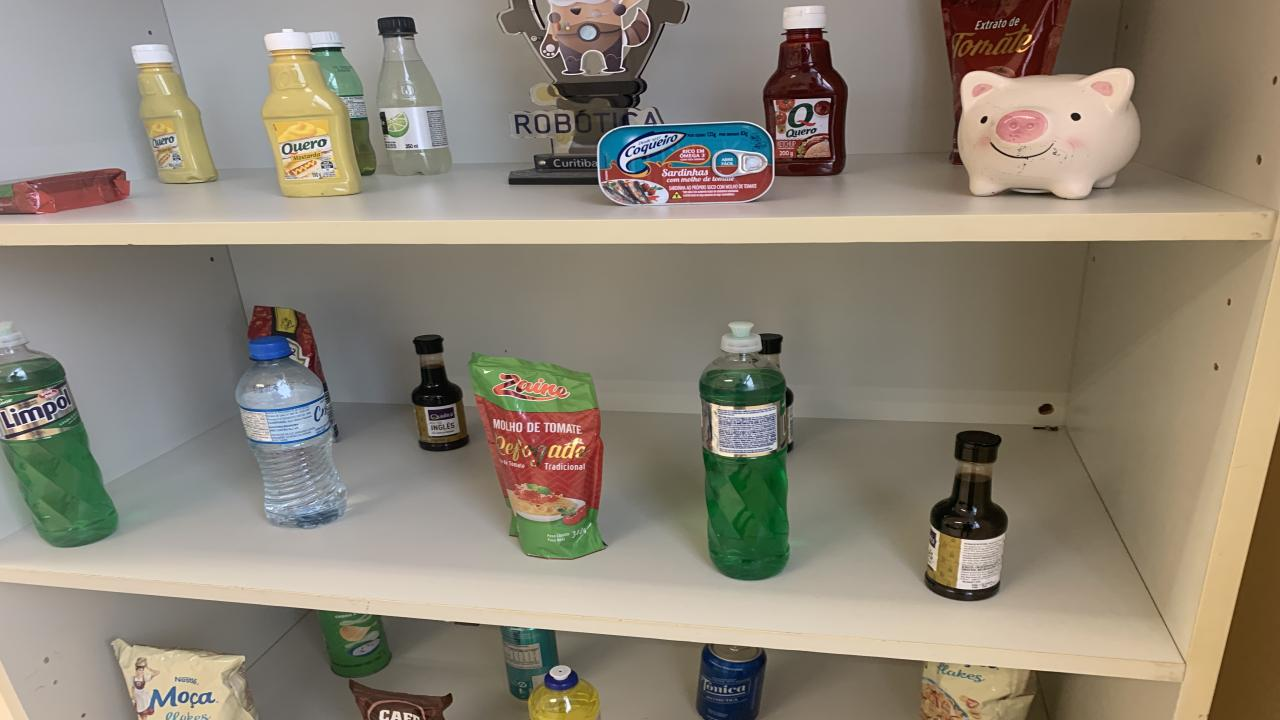Coffee-Pantry_Items: (350, 681, 452, 720)
Detergent-Cleanup_Items: (0, 322, 118, 548), (700, 322, 790, 579), (528, 666, 600, 720)
English_Sauce-Pantry_Items: (925, 431, 1008, 600), (412, 334, 470, 452)
Flakes-Snacks: (112, 639, 258, 720), (920, 662, 1038, 720)
Guarana-Drinks: (310, 32, 375, 176)
Guava-Snacks: (3, 169, 133, 214)
Ketchup-Pantry_Items: (762, 6, 848, 176)
Mustard-Pantry_Items: (262, 30, 362, 197), (132, 45, 218, 184)
Pig_Safe-Miscellaneous: (958, 68, 1140, 199)
Pringles-Snacks: (318, 611, 392, 677)
Soda-Drinks: (378, 17, 452, 176)
Tea-Drinks: (500, 626, 558, 699)
Tomato_Sauce-Pantry_Items: (470, 354, 605, 559), (940, 0, 1070, 131), (248, 306, 325, 384)
Tonic-Drinks: (698, 645, 768, 720)
Trophy-Miscellaneous: (498, 0, 688, 186)
Tuna_Can-Pantry_Items: (598, 122, 775, 206)
Water_Bottle-Drinks: (235, 338, 345, 527)
